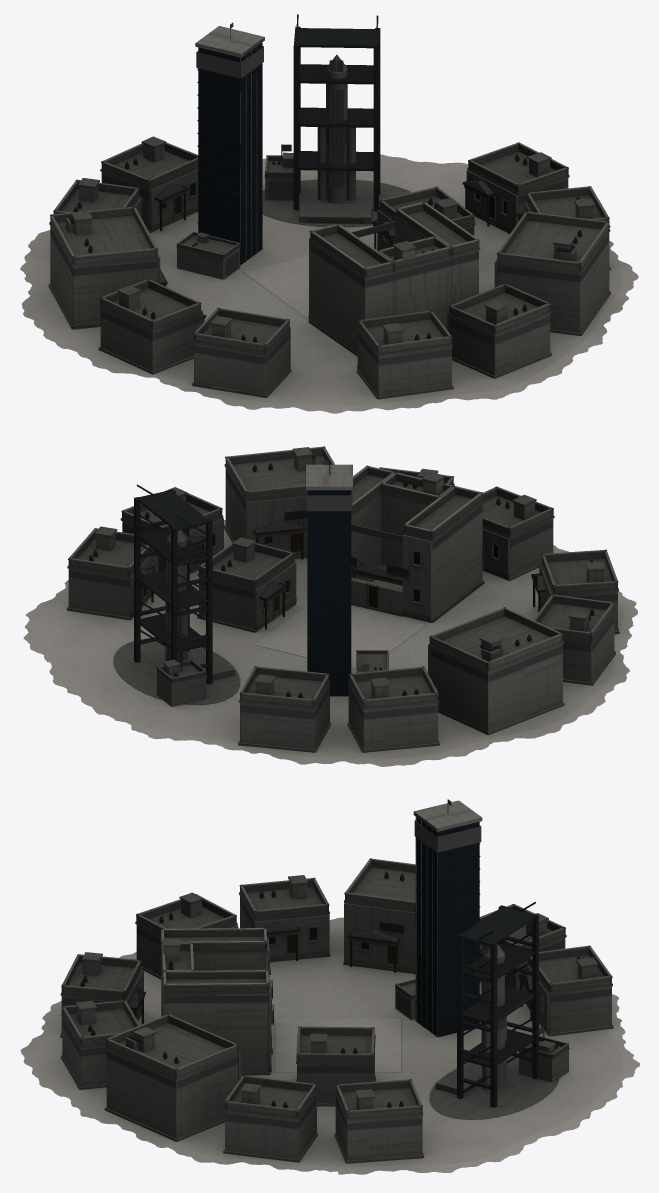
The model's file is modern-town-medium-a-steppe.glb.
3 renders of one model, top to bottom at view 1: azimuth 30°, elevation 25°; view 2: azimuth 150°, elevation 25°; view 3: azimuth 270°, elevation 25°, orthographic.
Visible parts, largest first — view 1: LOD0; view 2: LOD0; view 3: LOD0.
Part boxes in pixels (x1,y1,x2,y2): LOD0: [20, 14, 638, 413]; LOD0: [23, 446, 637, 766]; LOD0: [20, 799, 639, 1174].
Size of what is drawn, in the model's own units: 5.93 by 2.4 by 6.02.
Materials: 3 (3 with a texture image).
